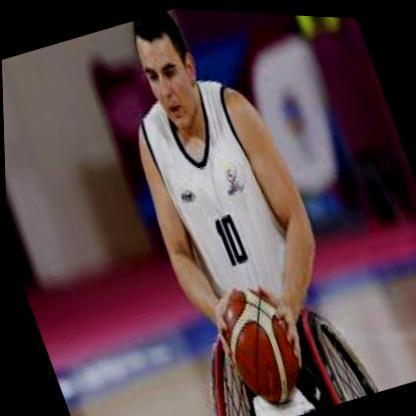basketball: (207, 275, 313, 416)
